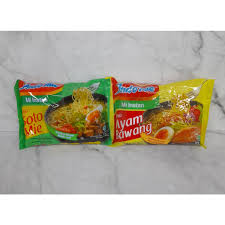Indomie Ayam Bawang (69g): (108, 70, 213, 152)
